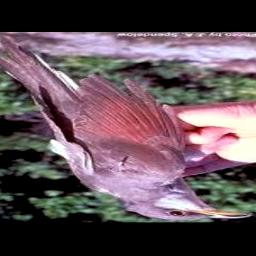Cuckoo: (0, 35, 250, 221)
